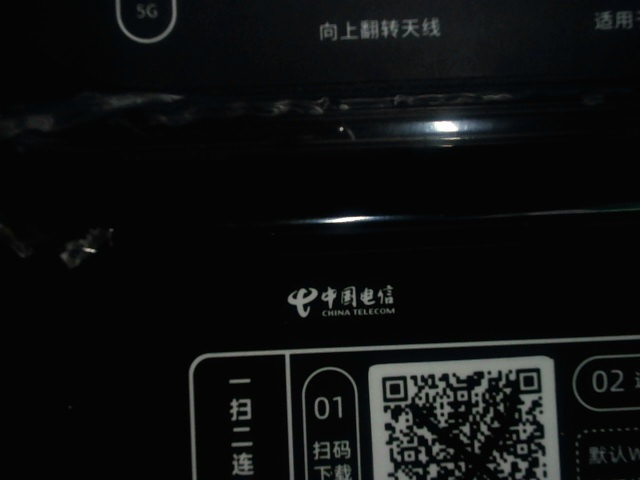AB_ChinaTelecom: (278, 281, 404, 327)
